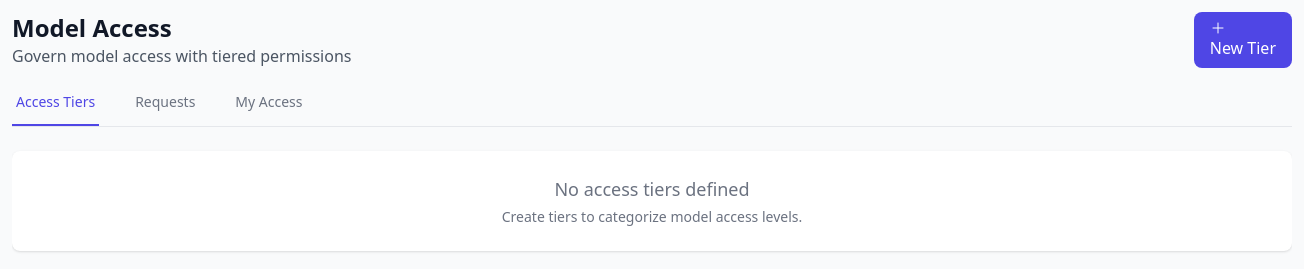
it: ModelAccess › renders approved request without action buttons and shows reviewer
What coordinates should you click on to do the following:
click the button "Requests"
I would click on:
 (165, 109)
Its box is left=131, top=92, right=199, bottom=126.
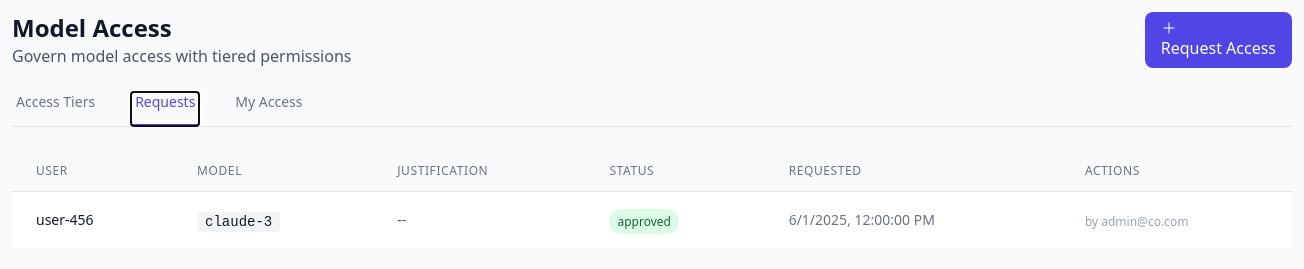
Now the text "approved" is shown, box left=609, top=209, right=679, bottom=234
Now the text "by admin@co.com" is shown, box left=1085, top=213, right=1188, bottom=230
